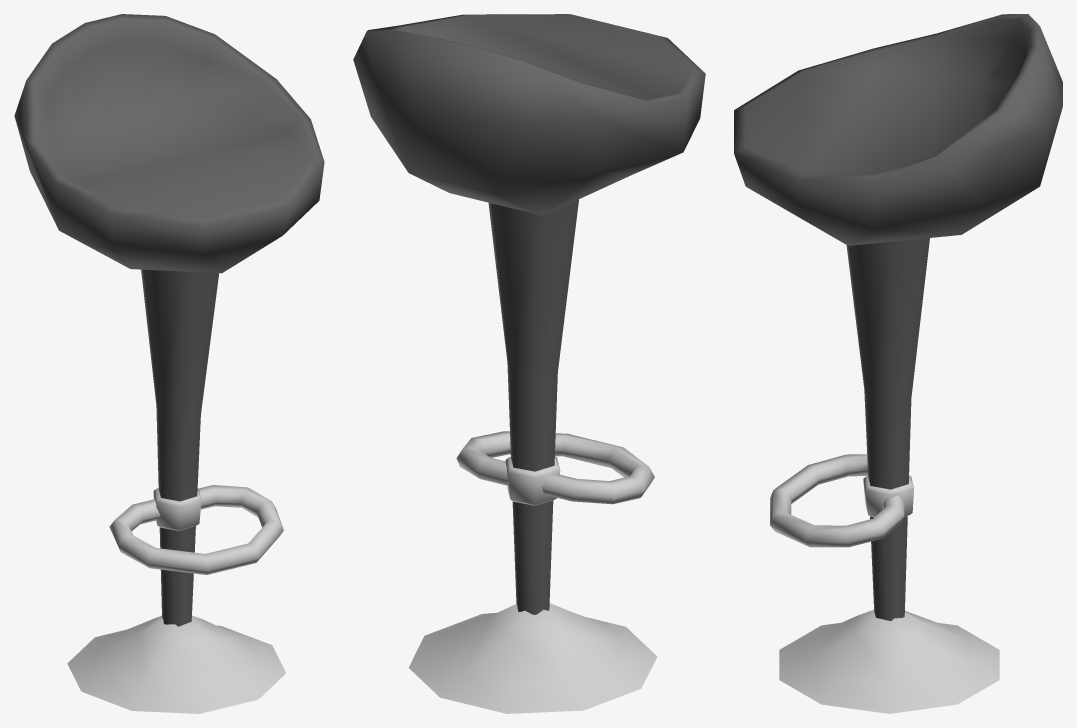
File: chair_022.fbx
The picture shows the model from 3 angles, left to right: view 1: azimuth 30°, elevation 25°; view 2: azimuth 150°, elevation 25°; view 3: azimuth 270°, elevation 25°; orthographic projection. The views are drawn at different scales.
Parts seen in each view (by area): view 1: chair_022; view 2: chair_022; view 3: chair_022.
Boxes of the visible parts, bbox=[...] form: chair_022: bbox=[14, 14, 324, 713]; chair_022: bbox=[353, 14, 705, 713]; chair_022: bbox=[734, 14, 1062, 713].
Size of the model in its own units: 51.74 by 54.69 by 115.
